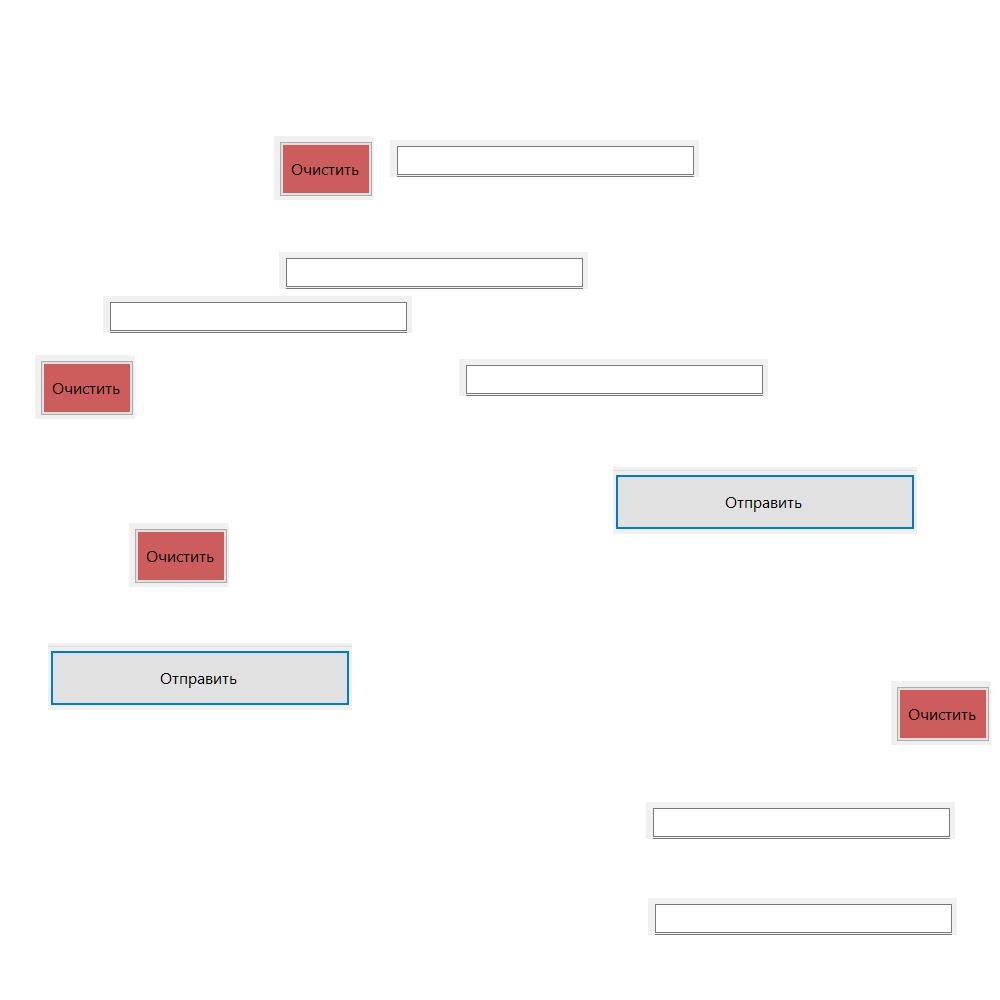Button: (48, 643, 352, 710), (613, 467, 917, 534), (129, 523, 229, 587), (891, 681, 991, 745), (274, 136, 374, 200), (35, 355, 135, 419)
EditText-: (279, 252, 588, 289), (103, 296, 412, 333), (459, 359, 768, 396), (646, 802, 955, 839), (390, 140, 699, 177), (648, 898, 957, 935)
